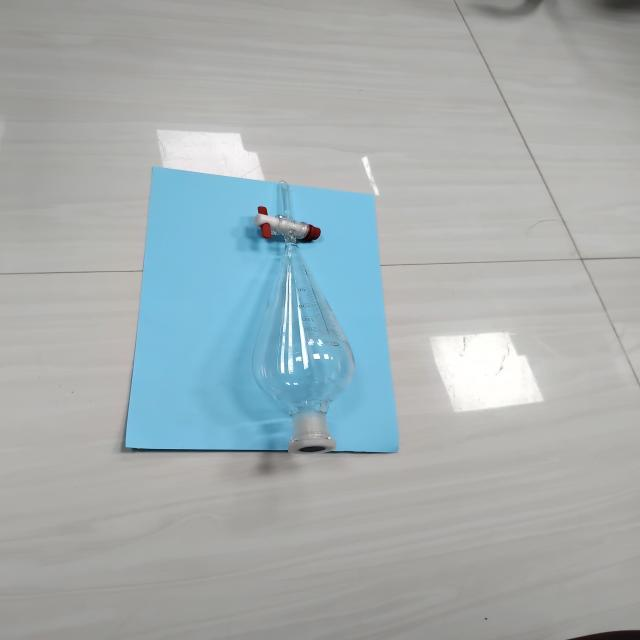Separating_Funnel: (217, 160, 382, 472)
